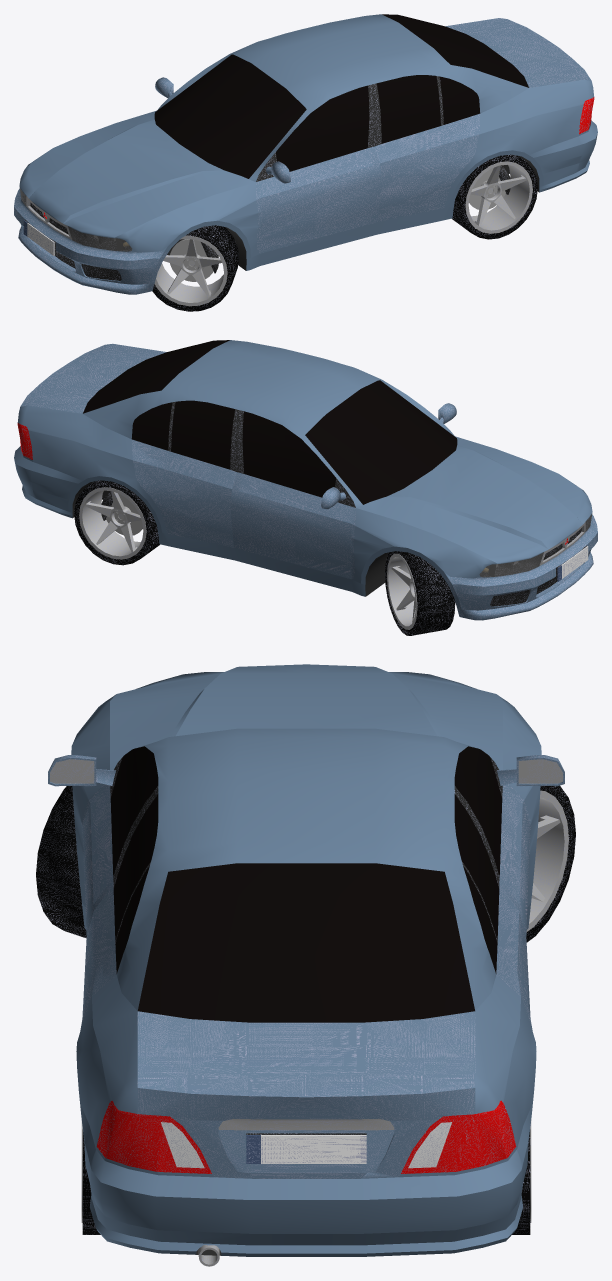
3 renders of one model, top to bottom at view 1: azimuth 30°, elevation 25°; view 2: azimuth 150°, elevation 25°; view 3: azimuth 270°, elevation 25°, orthographic. The views are drawn at different scales.
Parts seen in each view (by area): view 1: Main_Body_Panel_Galant, Hood_Galant, Windscreen_Galant, Front_Door_Galant (×2), Rear_Door_Galant, Front_Bumper_Galant (×2), Front_Fender, Back_Door_Side_Windows_Galant (×2), Front_Door_Side_Window_Galant, Tail_Gate_Galant, Component_5 (×4), Component_6 (×2) (+9 smaller); view 2: Main_Body_Panel_Galant, Hood_Galant, Windscreen_Galant, Front_Door_Galant (×2), Rear_Door_Galant, Front_Bumper_Galant (×2), Front_Fender, Back_Door_Side_Windows_Galant (×2), Front_Door_Side_Window_Galant, Component_6 (×2), Tail_Gate_Galant, Component_5 (×4) (+9 smaller); view 3: Main_Body_Panel_Galant, Back_Windscreen_Galant, Tail_Gate_Galant (×2), Rear_Bumper_Galant, Hood_Galant, Taillights_Galant (×4), Back_Door_Side_Windows_Galant (×4), Front_Door_Galant (×2), Component_6 (×2), Front_Door_Side_Window_Galant (×2), Front_Fender (×2), Rear_Door_Galant (×2) (+3 smaller).
Part boxes in pixels (<box>): Main_Body_Panel_Galant: <box>157,14,594,207</box>; Hood_Galant: <box>19,110,255,238</box>; Windscreen_Galant: <box>154,54,306,178</box>; Front_Door_Galant (×2): <box>256,84,381,253</box>; Rear_Door_Galant: <box>375,113,480,221</box>; Front_Bumper_Galant (×2): <box>14,188,168,294</box>; Front_Fender: <box>115,182,260,258</box>; Back_Door_Side_Windows_Galant (×2): <box>377,75,480,143</box>; Front_Door_Side_Window_Galant: <box>276,85,369,171</box>; Tail_Gate_Galant: <box>445,18,591,87</box>; Component_5 (×4): <box>154,161,532,306</box>; Component_6 (×2): <box>152,154,537,311</box>; Main_Body_Panel_Galant: <box>17,340,454,533</box>; Hood_Galant: <box>357,436,592,563</box>; Windscreen_Galant: <box>305,380,457,504</box>; Front_Door_Galant (×2): <box>230,410,355,579</box>; Rear_Door_Galant: <box>131,439,236,547</box>; Front_Bumper_Galant (×2): <box>443,514,597,620</box>; Front_Fender: <box>352,508,496,584</box>; Back_Door_Side_Windows_Galant (×2): <box>131,400,234,469</box>; Front_Door_Side_Window_Galant: <box>242,411,335,497</box>; Component_6 (×2): <box>74,480,455,635</box>; Tail_Gate_Galant: <box>20,343,166,413</box>; Component_5 (×4): <box>79,487,417,629</box>; Main_Body_Panel_Galant: <box>76,728,536,1149</box>; Back_Windscreen_Galant: <box>138,863,474,1022</box>; Tail_Gate_Galant (×2): <box>137,1011,475,1178</box>; Rear_Bumper_Galant: <box>80,1103,532,1256</box>; Hood_Galant: <box>110,664,502,770</box>; Taillights_Galant (×4): <box>96,1100,516,1173</box>; Back_Door_Side_Windows_Galant (×4): <box>113,794,499,973</box>; Front_Door_Galant (×2): <box>81,784,531,936</box>; Component_6 (×2): <box>36,785,575,942</box>; Front_Door_Side_Window_Galant (×2): <box>110,746,502,875</box>; Front_Fender (×2): <box>71,694,541,907</box>; Rear_Door_Galant (×2): <box>81,884,531,1026</box>.
Bounding box in the file's own units: 172 × 76.86 × 54.35.
